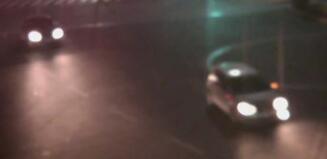car: (205, 61, 289, 127), (16, 13, 63, 48)
